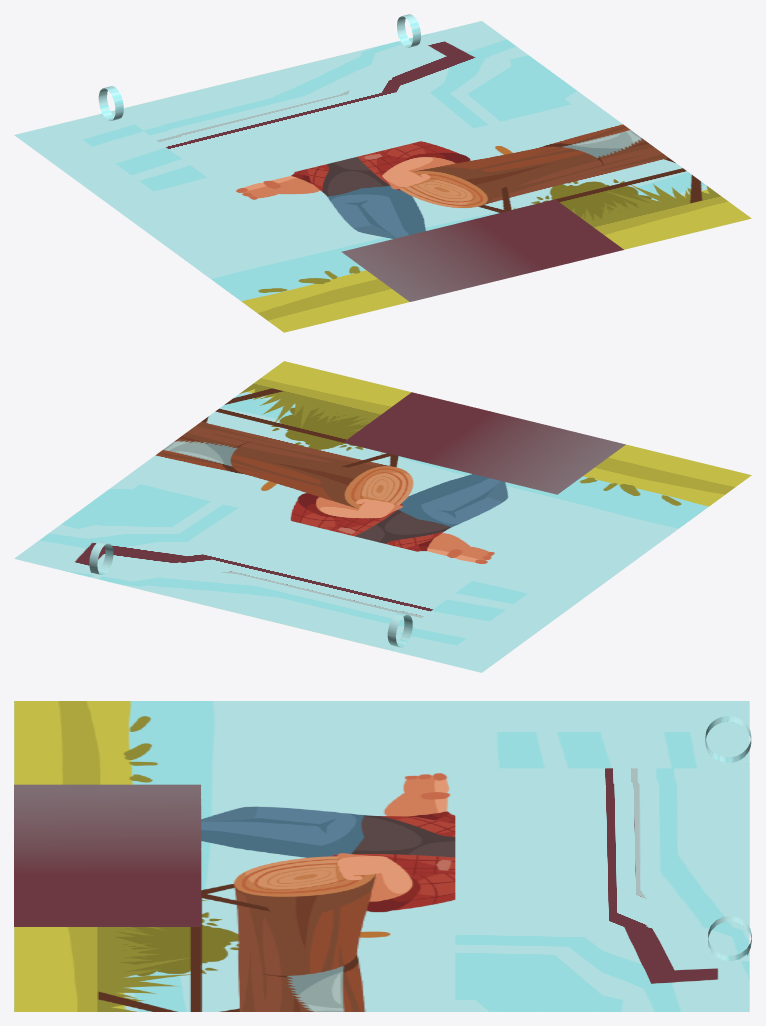
3 views of the same model, one above another, from view 1: azimuth 30°, elevation 25°; view 2: azimuth 150°, elevation 25°; view 3: azimuth 270°, elevation 25° (orthographic). The views are drawn at different scales.
Parts seen in each view (by area): view 1: mesh, sitting_wood, rope_01, rope_02; view 2: mesh, sitting_wood, rope_01, rope_02; view 3: mesh, sitting_wood, rope_01, rope_02.
Boxes of the visible parts, x1,y1,x2,y2 form: mesh: [14, 21, 751, 332]; sitting_wood: [341, 199, 623, 301]; rope_01: [98, 86, 123, 120]; rope_02: [397, 14, 420, 47]; mesh: [14, 361, 751, 672]; sitting_wood: [343, 392, 625, 494]; rope_01: [387, 612, 412, 651]; rope_02: [89, 541, 113, 578]; mesh: [14, 701, 749, 1011]; sitting_wood: [14, 784, 201, 926]; rope_01: [705, 716, 751, 763]; rope_02: [708, 916, 751, 961].
Bounding box in the file's own units: 2400 × 151 × 2408.
